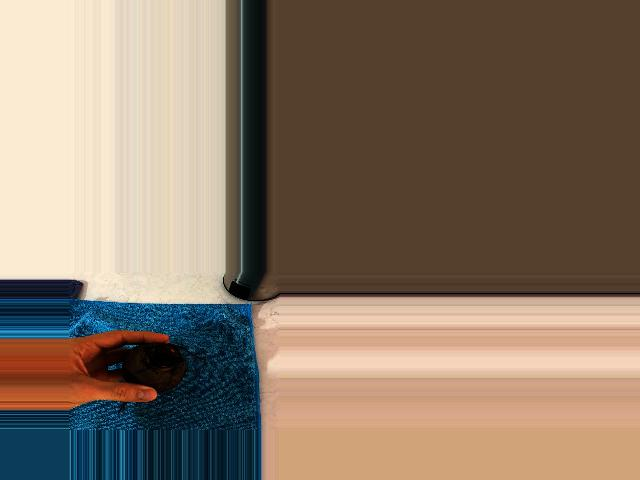beet: (118, 343, 205, 414)
